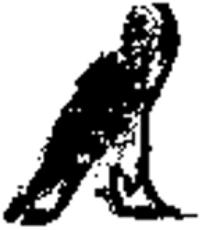Owl: (2, 2, 194, 227)
